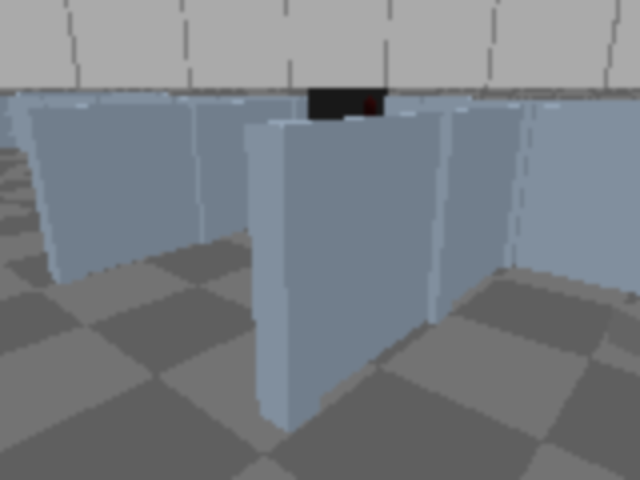obstacle: (606, 293, 638, 398)
